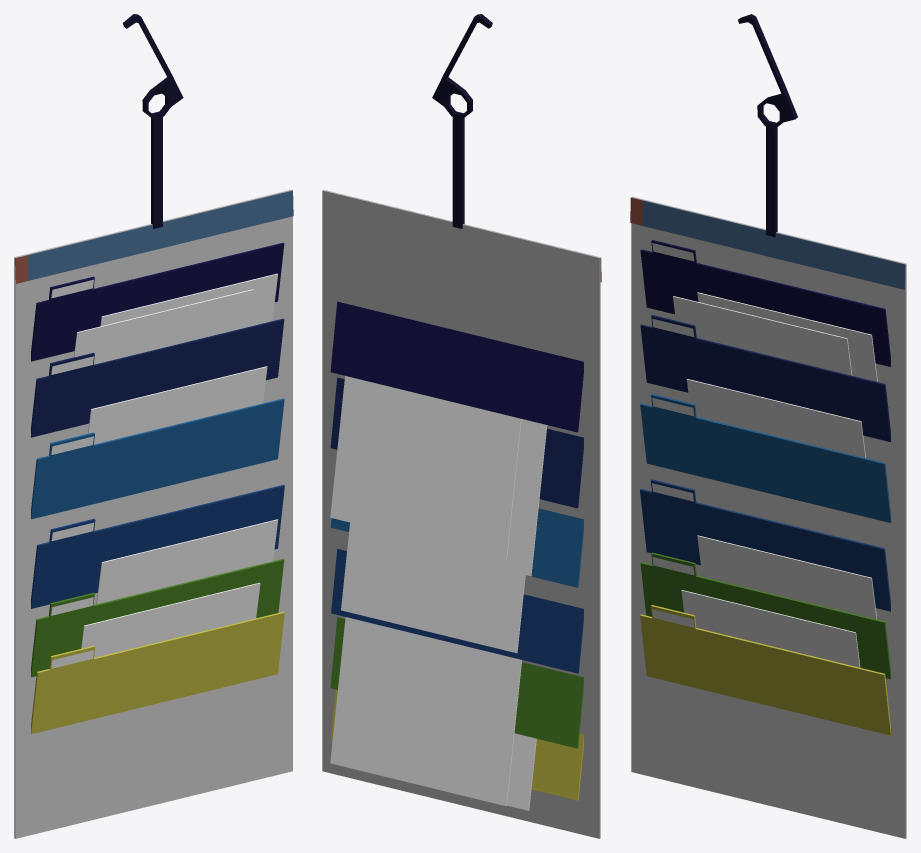
The model's file is LC_3178_filing_cabinett_b_LOD1.fbx.
3 renders of one model, left to right at view 1: azimuth 30°, elevation 25°; view 2: azimuth 150°, elevation 25°; view 3: azimuth 330°, elevation 25°, orthographic.
Parts seen in each view (by area): view 1: LC_3178_fc_b_LOD1; view 2: LC_3178_fc_b_LOD1; view 3: LC_3178_fc_b_LOD1.
Boxes of the visible parts, box(x1,y1,x2,y2) form: LC_3178_fc_b_LOD1: box(14, 14, 293, 838); LC_3178_fc_b_LOD1: box(322, 14, 601, 838); LC_3178_fc_b_LOD1: box(630, 14, 906, 838).
Bounding box in the file's own units: 30.01 × 82.03 × 5.18.
1 material, 1 textured.
